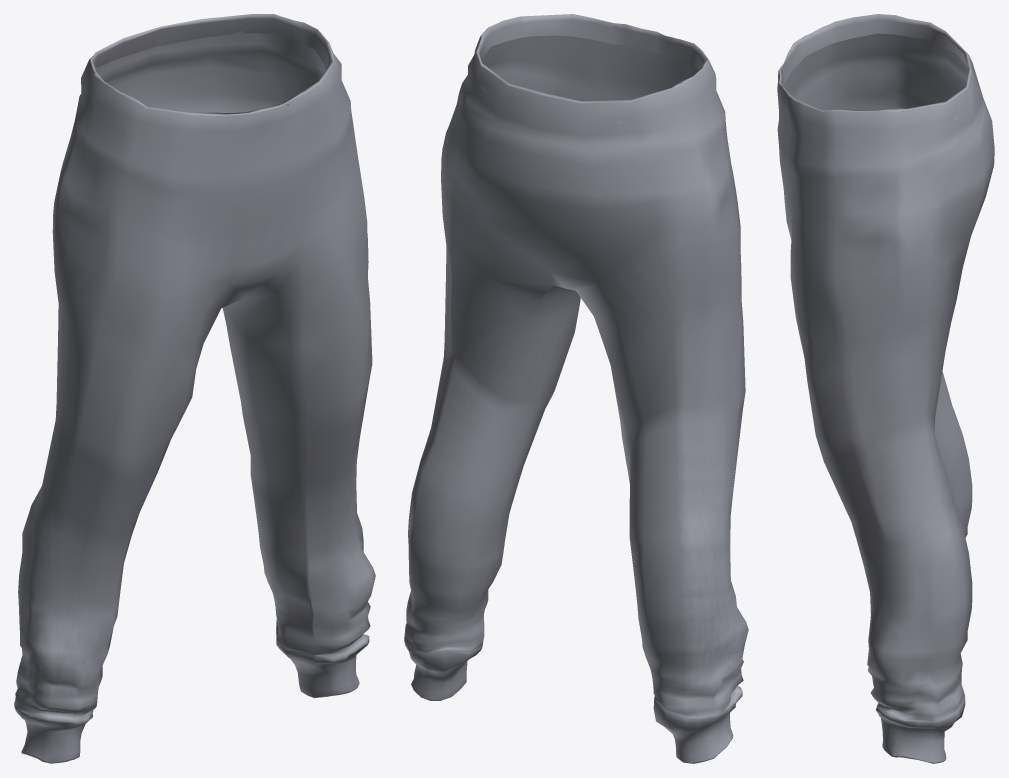
Rendered from pantalon_v2.glb.
3 views of the same model, side by side, from view 1: azimuth 30°, elevation 25°; view 2: azimuth 150°, elevation 25°; view 3: azimuth 270°, elevation 25° (orthographic). The views are drawn at different scales.
Visible parts, largest first — view 1: SM_PantsLo1:Joggers_Lo; view 2: SM_PantsLo1:Joggers_Lo; view 3: SM_PantsLo1:Joggers_Lo.
Boxes of the visible parts, x1,y1,x2,y2 form: SM_PantsLo1:Joggers_Lo: (14, 14, 375, 763); SM_PantsLo1:Joggers_Lo: (404, 14, 748, 763); SM_PantsLo1:Joggers_Lo: (777, 14, 994, 763).
Size of the model in its own units: 2.24 by 4.31 by 1.33.
1 material, 1 textured.
